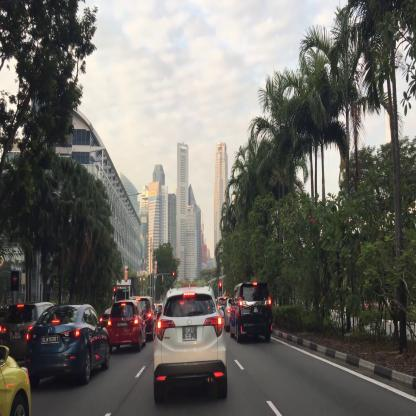red_traffic_light: (113, 287, 116, 296), (219, 283, 222, 290), (171, 272, 174, 275)
